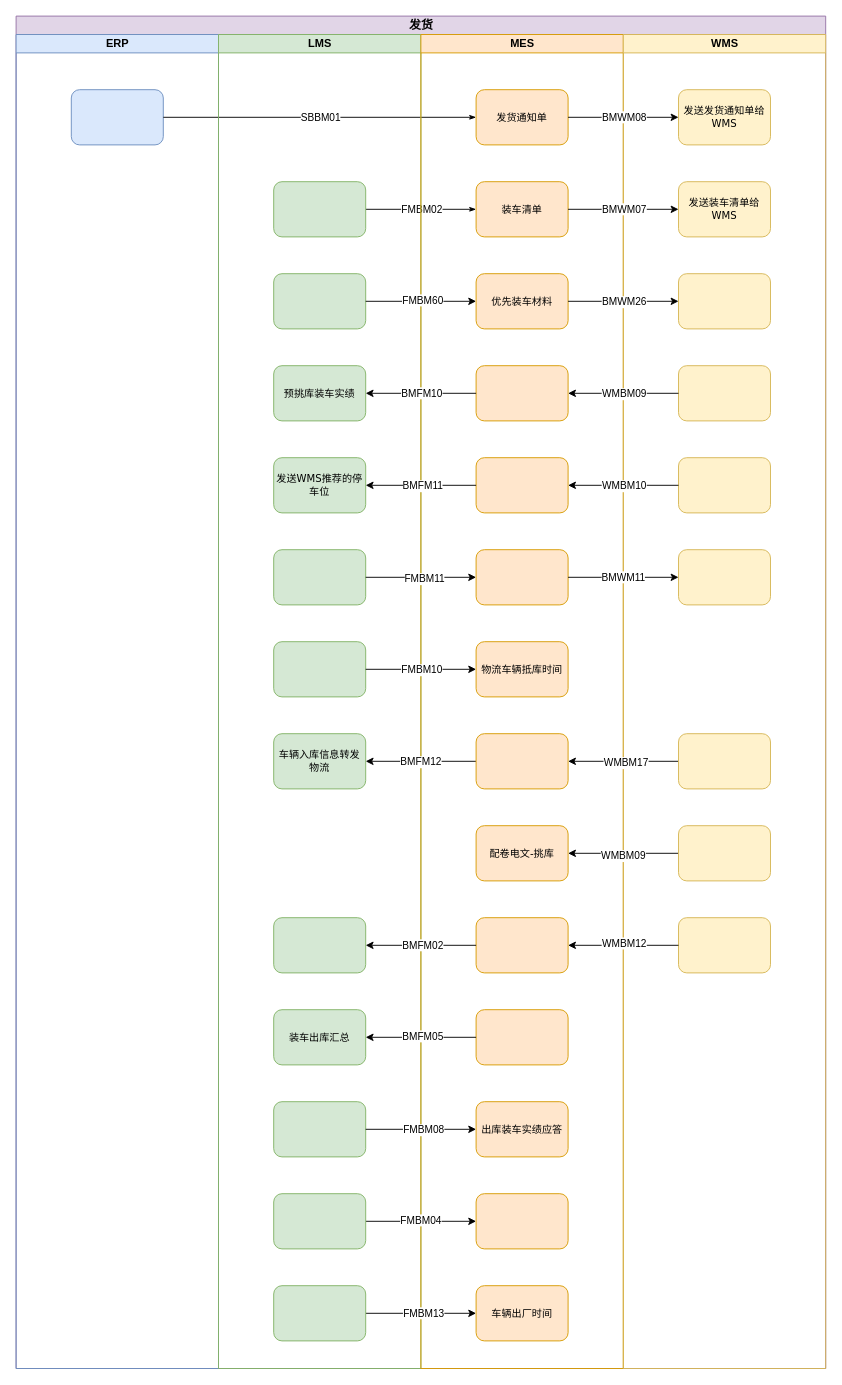
This 842x1385 diagram has some shape labels left out. The shapes that lost their labels are listed below. From the top down, each one's centre as x and y in pixels, then its label:
At (x=724, y=301): "发送预配载材料给WMS".
At (x=521, y=393): "配卷电文-预挑库".
At (x=521, y=485): "停车位推荐".
At (x=521, y=577): "物流车辆进厂信息".
At (x=724, y=577): "WMS抵库时间".
At (x=521, y=761): "汽车排队进库信息".
At (x=319, y=945): "出库装车实绩".
At (x=521, y=945): "汽车出库实绩信息".
At (x=521, y=1221): "车辆放行确认".
